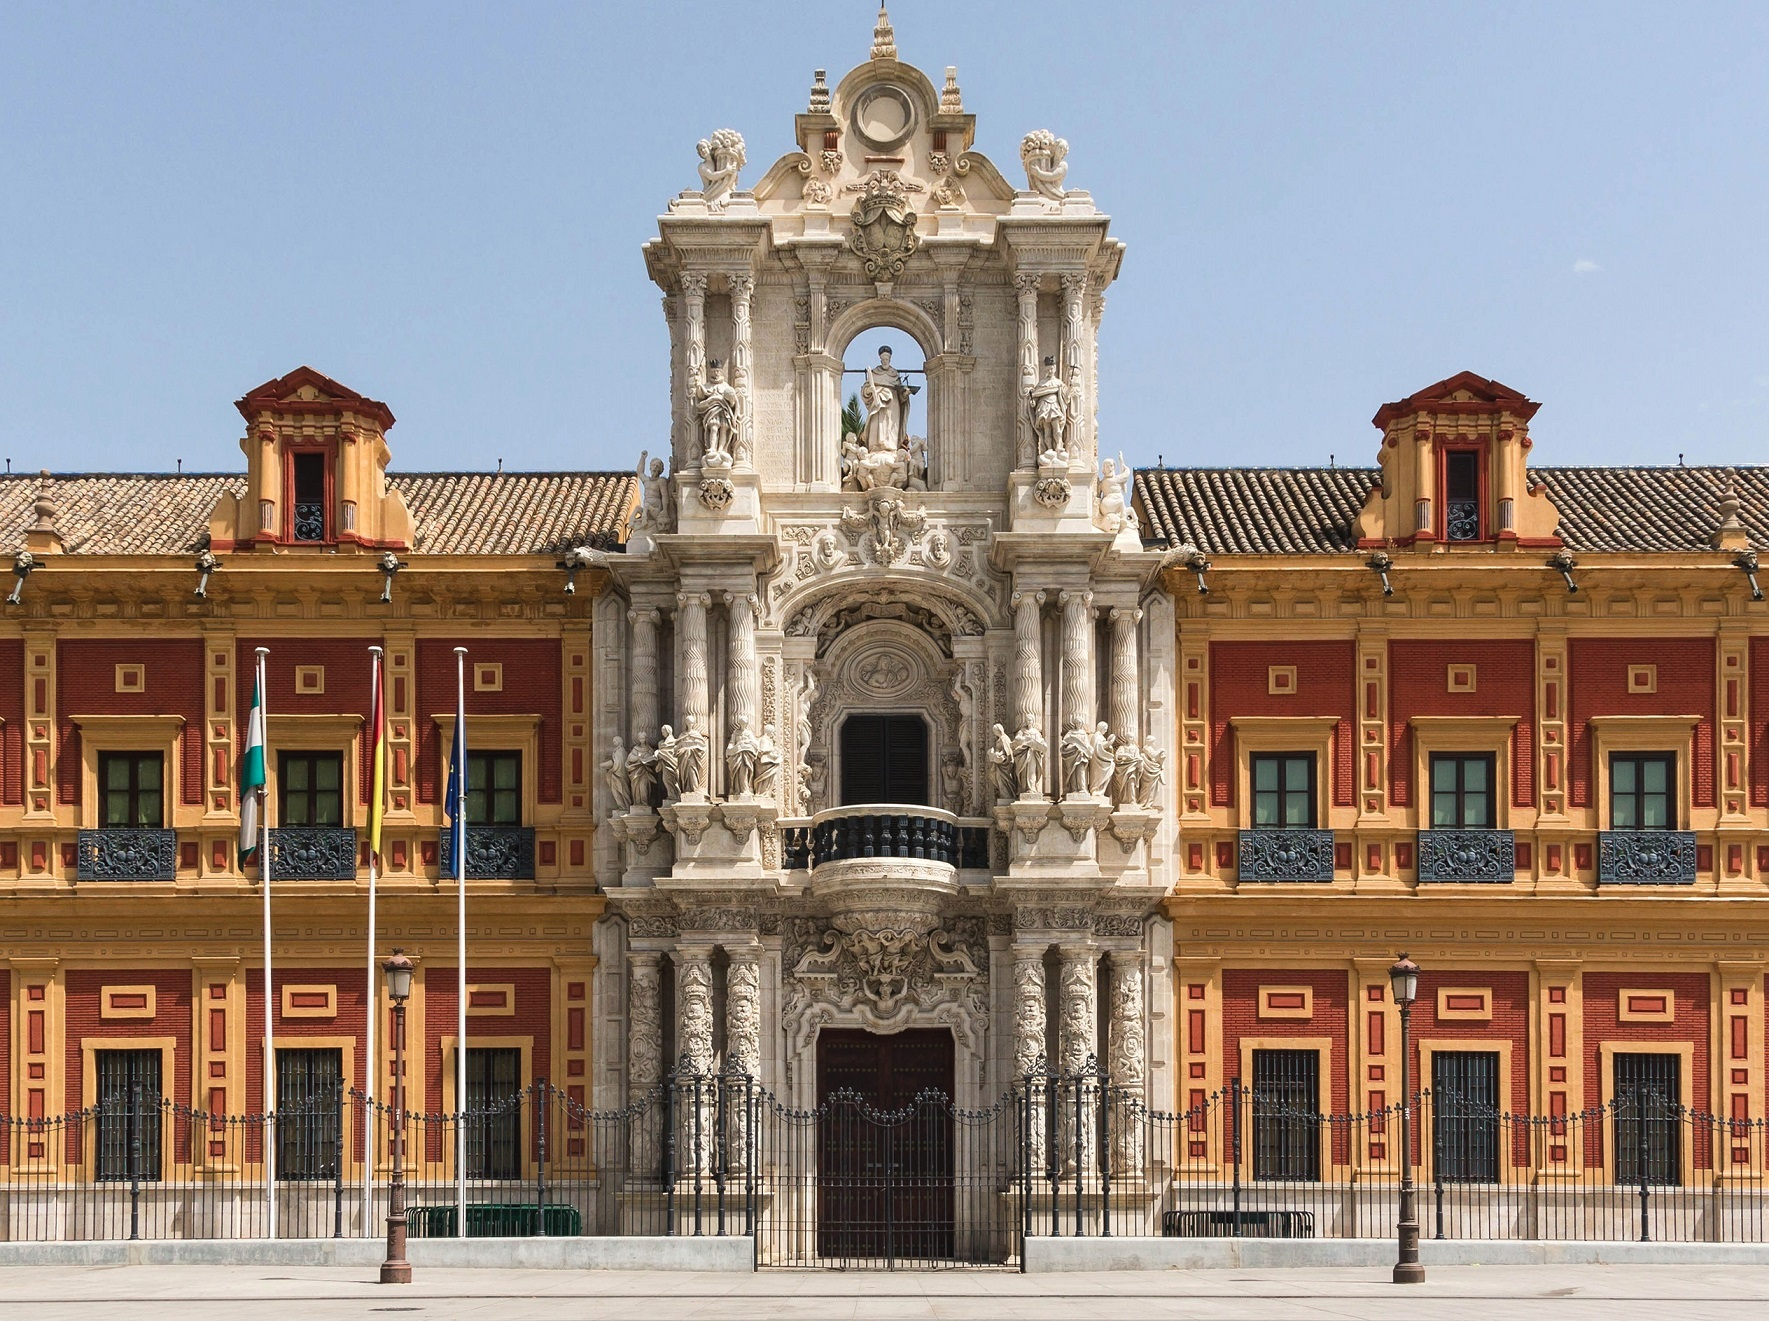arco-medio-punto: (820, 291, 943, 373)
fronton-partido: (241, 362, 364, 408), (1408, 368, 1528, 412)
vano-adintelado: (62, 708, 191, 901), (1220, 709, 1350, 894), (1584, 710, 1707, 898), (426, 709, 549, 892), (1405, 710, 1523, 894), (264, 709, 366, 889), (1593, 1035, 1697, 1193), (1412, 1034, 1521, 1185), (1238, 1032, 1343, 1185), (76, 1032, 180, 1184), (437, 1030, 538, 1181), (257, 1032, 354, 1184)
